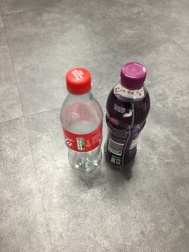bottle_purple: (98, 56, 153, 183)
bottle_red: (49, 63, 106, 191)
